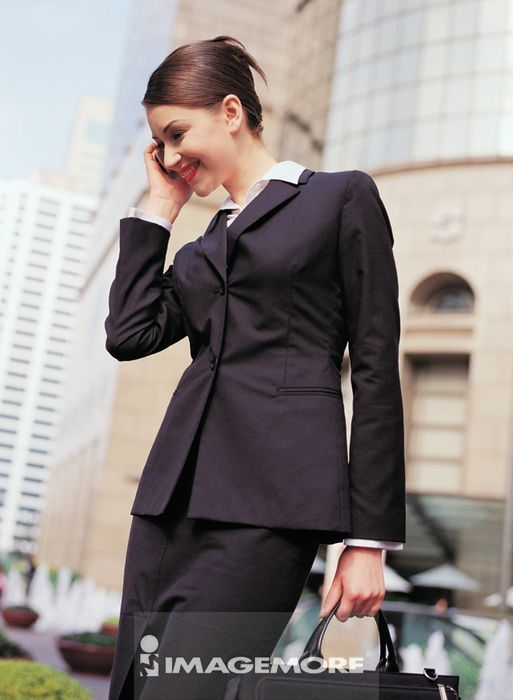talk: (144, 114, 214, 217)
